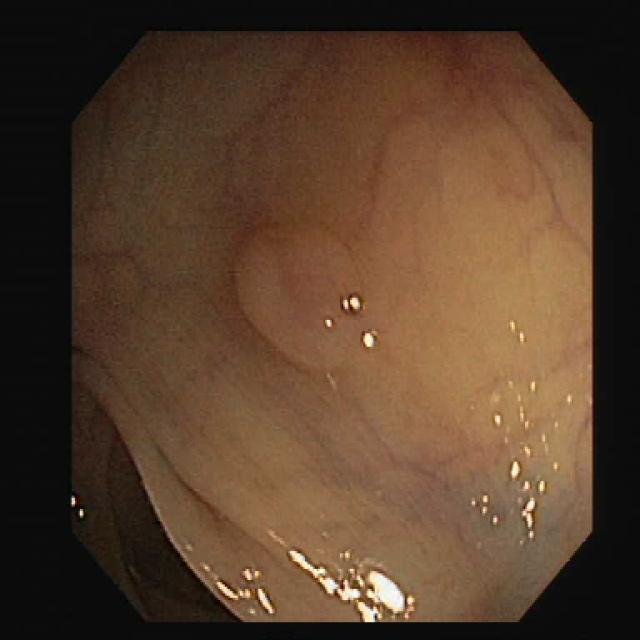tumor: (233, 224, 375, 371)
